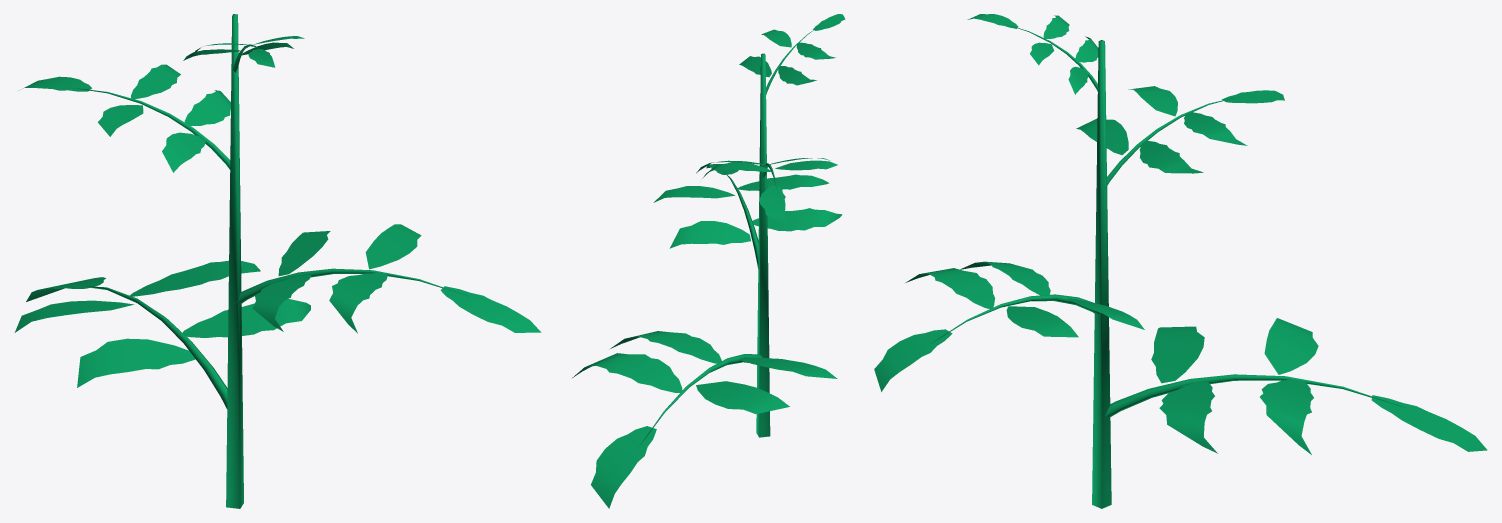
The model's file is CucumberChili1.FBX.
3 views of the same model, side by side, from view 1: azimuth 30°, elevation 25°; view 2: azimuth 150°, elevation 25°; view 3: azimuth 270°, elevation 25° (orthographic). The views are drawn at different scales.
Visible parts, largest first — view 1: Eggplant_Plant; view 2: Eggplant_Plant; view 3: Eggplant_Plant.
Part boxes in pixels (x1,y1,x2,y2): Eggplant_Plant: (14, 14, 541, 508); Eggplant_Plant: (572, 14, 845, 508); Eggplant_Plant: (874, 14, 1487, 508).
Bounding box in the file's own units: 41.67 × 62.64 × 73.68.
